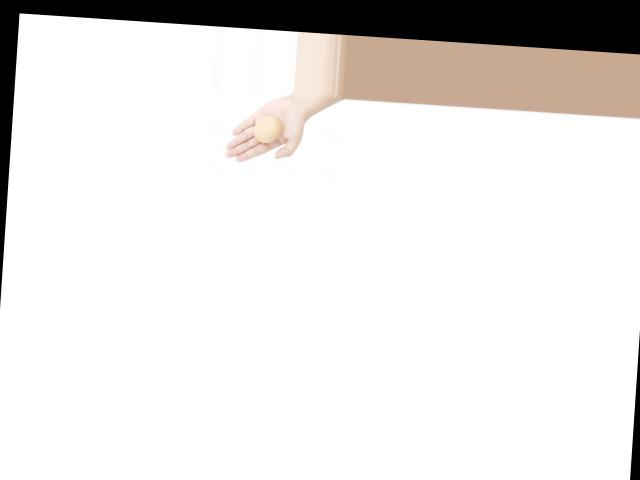egg: (253, 114, 284, 143)
